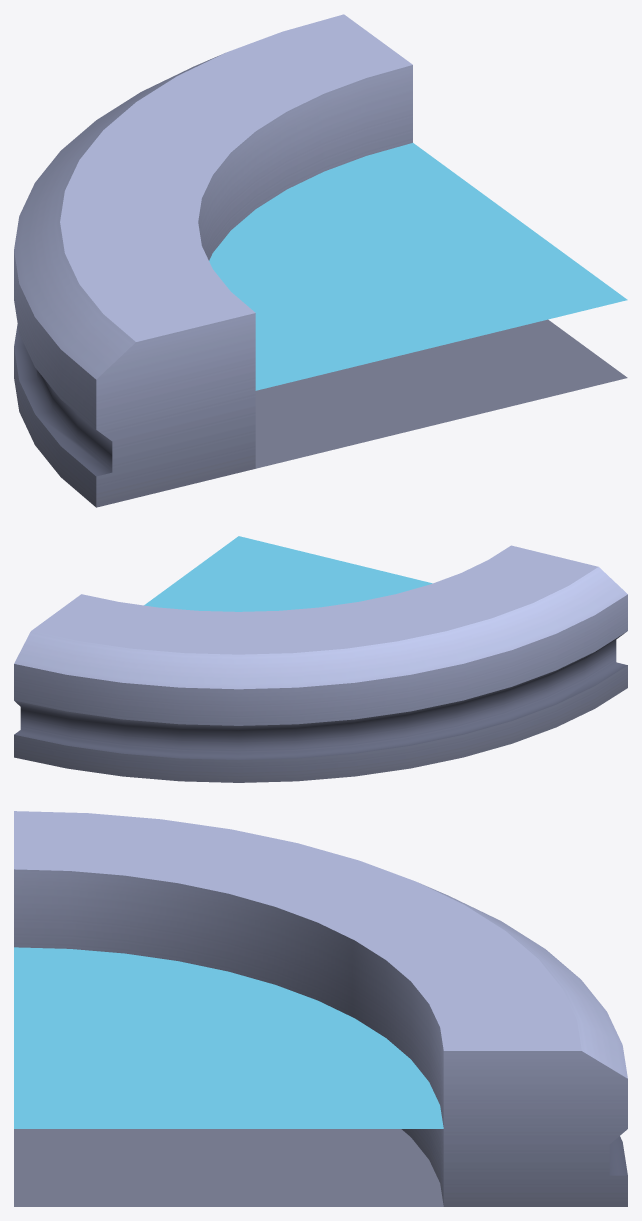
Rendered from fountain-curved.fbx.
3 views of the same model, one above another, from view 1: azimuth 30°, elevation 25°; view 2: azimuth 150°, elevation 25°; view 3: azimuth 270°, elevation 25° (orthographic). The views are drawn at different scales.
Parts seen in each view (by area): view 1: fountain-curved, (%ignore); view 2: fountain-curved, (%ignore); view 3: fountain-curved, (%ignore).
Boxes of the visible parts, x1,y1,x2,y2 form: fountain-curved: [14, 14, 627, 507]; (%ignore): [209, 143, 627, 390]; fountain-curved: [14, 545, 627, 782]; (%ignore): [144, 536, 432, 611]; fountain-curved: [14, 811, 627, 1206]; (%ignore): [14, 947, 443, 1128].
Size of the model in its own units: 100 by 28 by 100.
2 materials, 1 textured.
